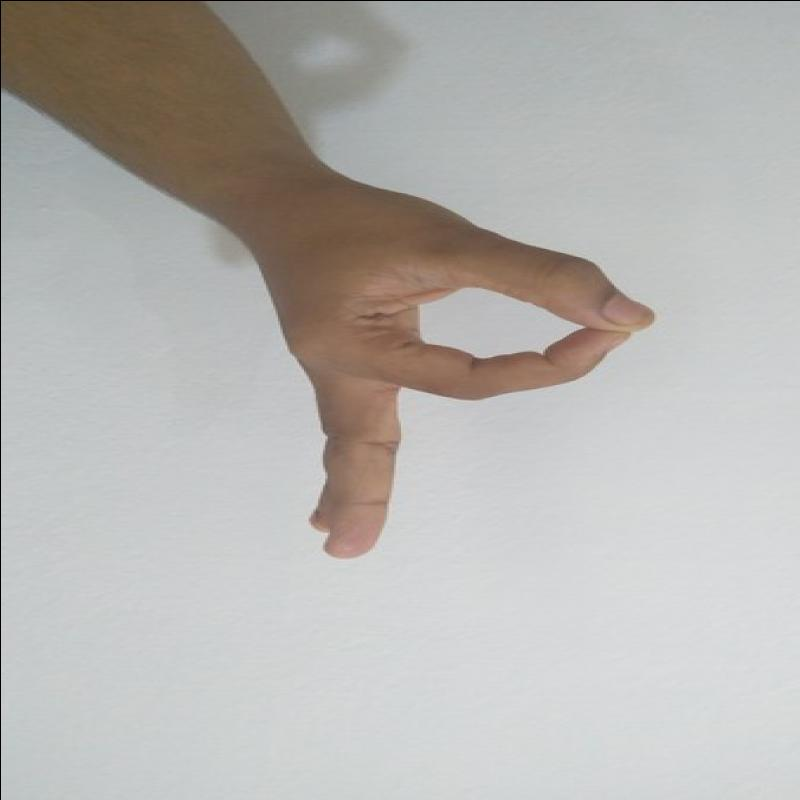Mudraakhyam: (251, 162, 670, 580)
